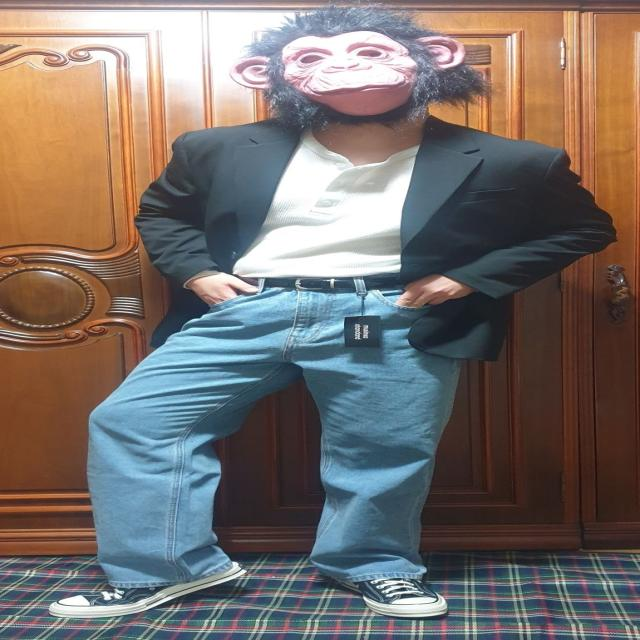blazer: (134, 112, 616, 364)
denimpants: (84, 278, 468, 592)
